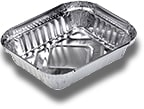metal: (1, 1, 137, 90)
